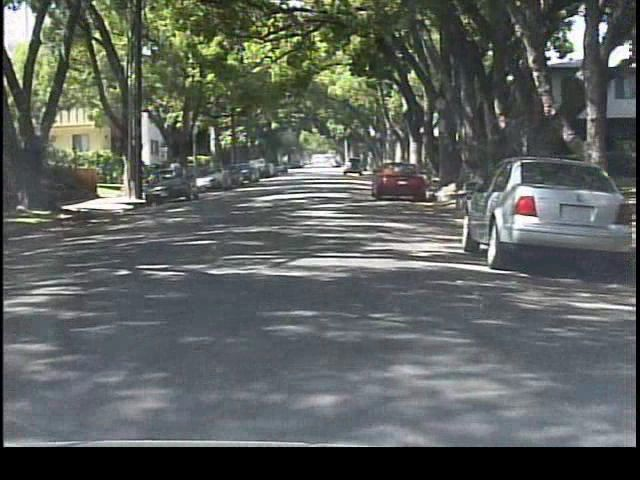person: (167, 156, 186, 192)
